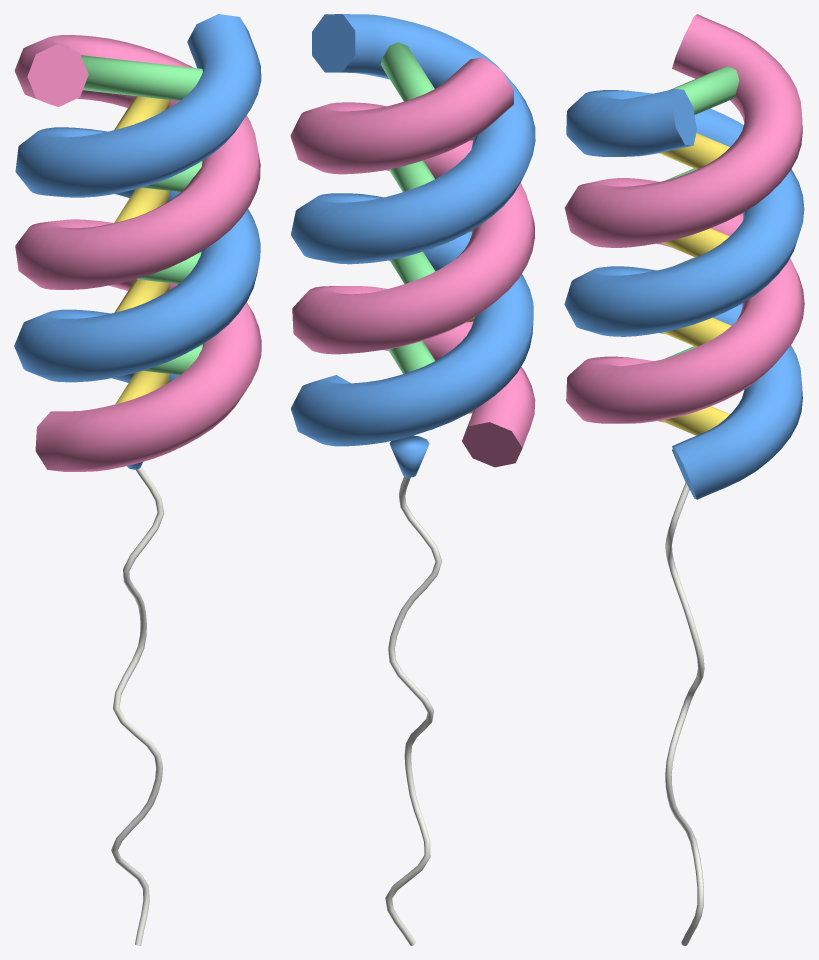
Rendered from B02_DoubleHelix.glb.
3 views of the same model, side by side, from view 1: azimuth 30°, elevation 25°; view 2: azimuth 150°, elevation 25°; view 3: azimuth 270°, elevation 25° (orthographic). The views are drawn at different scales.
Visible parts, largest first — view 1: B02_DoubleHelix_Mesh; view 2: B02_DoubleHelix_Mesh; view 3: B02_DoubleHelix_Mesh.
Boxes of the visible parts, x1,y1,x2,y2 form: B02_DoubleHelix_Mesh: (14, 14, 261, 945); B02_DoubleHelix_Mesh: (290, 14, 535, 945); B02_DoubleHelix_Mesh: (564, 14, 804, 945).
Size of the model in its own units: 0.4295 by 1.75 by 0.4284.
